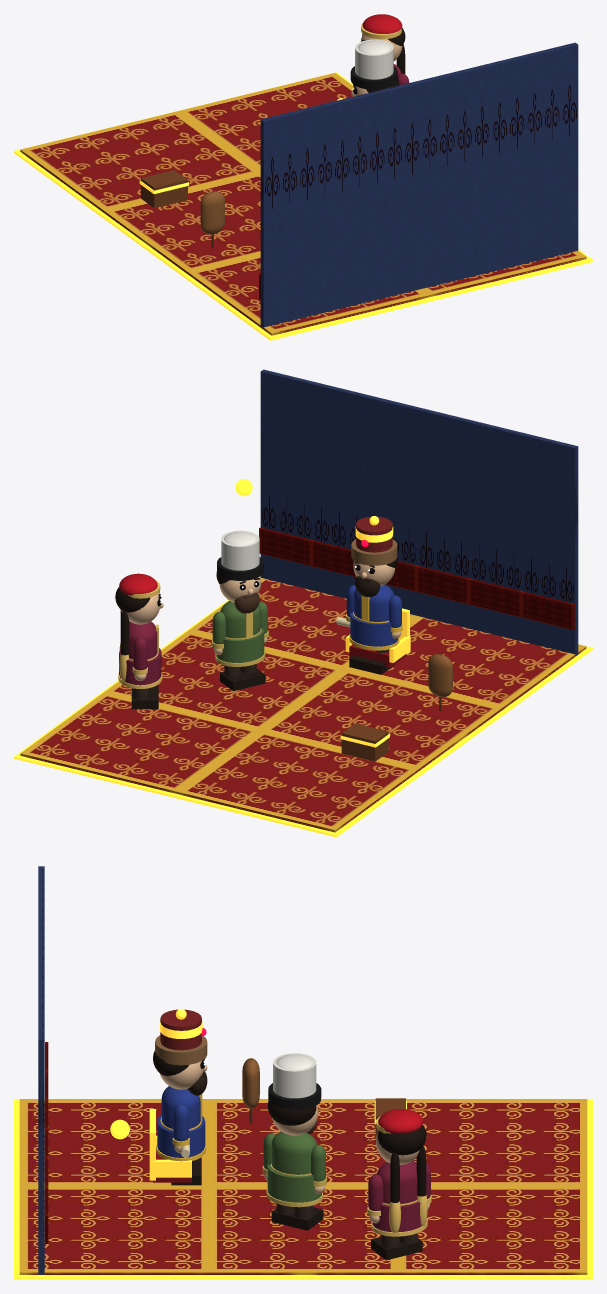
3 renders of one model, top to bottom at view 1: azimuth 30°, elevation 25°; view 2: azimuth 150°, elevation 25°; view 3: azimuth 270°, elevation 25°, orthographic. The views are drawn at different scales.
Parts seen in each view (by area): view 1: Орда қабырғасы, Жер, Жиек, obj_chest, Kalpak, Тон, Takiya, Brim; view 2: Жер, Орда қабырғасы, Ою, Жиек, Skirt (×3), Torso (×3), obj_chest, Kalpak, Тон, Crown, Rim, Takiya; view 3: Жер, Жиек, Torso (×3), Skirt (×3), Орда қабырғасы, Hair (×2), Kalpak, Crown, Takiya, Rim, Тон, Ою (+4 smaller).
Part boxes in pixels (x1=…): Орда қабырғасы: x1=260, y1=42, x2=578, y2=327; Жер: x1=20, y1=73, x2=586, y2=335; Жиек: x1=14, y1=72, x2=592, y2=340; obj_chest: x1=141, y1=170, x2=187, y2=208; Kalpak: x1=355, y1=39, x2=393, y2=79; Тон: x1=200, y1=191, x2=224, y2=234; Takiya: x1=362, y1=14, x2=402, y2=33; Brim: x1=350, y1=66, x2=397, y2=89; Жер: x1=20, y1=578, x2=586, y2=832; Орда қабырғасы: x1=260, y1=369, x2=578, y2=656; Ою: x1=259, y1=527, x2=575, y2=630; Жиек: x1=14, y1=600, x2=592, y2=837; Skirt (×3): x1=119, y1=613, x2=398, y2=685; Torso (×3): x1=128, y1=584, x2=394, y2=659; obj_chest: x1=341, y1=723, x2=388, y2=761; Kalpak: x1=221, y1=530, x2=259, y2=570; Тон: x1=428, y1=654, x2=452, y2=697; Crown: x1=356, y1=516, x2=392, y2=552; Rim: x1=351, y1=539, x2=397, y2=565; Takiya: x1=119, y1=573, x2=157, y2=595; Жер: x1=19, y1=1099, x2=587, y2=1274; Жиек: x1=14, y1=1099, x2=592, y2=1279; Torso (×3): x1=161, y1=1086, x2=417, y2=1204; Skirt (×3): x1=157, y1=1114, x2=426, y2=1232; Орда қабырғасы: x1=38, y1=866, x2=44, y2=1274; Hair (×2): x1=267, y1=1101, x2=426, y2=1155; Kalpak: x1=273, y1=1053, x2=316, y2=1098; Crown: x1=160, y1=1009, x2=201, y2=1050; Takiya: x1=378, y1=1109, x2=423, y2=1133; Rim: x1=155, y1=1035, x2=207, y2=1065; Тон: x1=242, y1=1058, x2=259, y2=1108; Ою: x1=45, y1=1042, x2=48, y2=1243.
Size of the model in its own units: 0.9635 by 0.6006 by 1.33.
35 materials, 3 textured.
